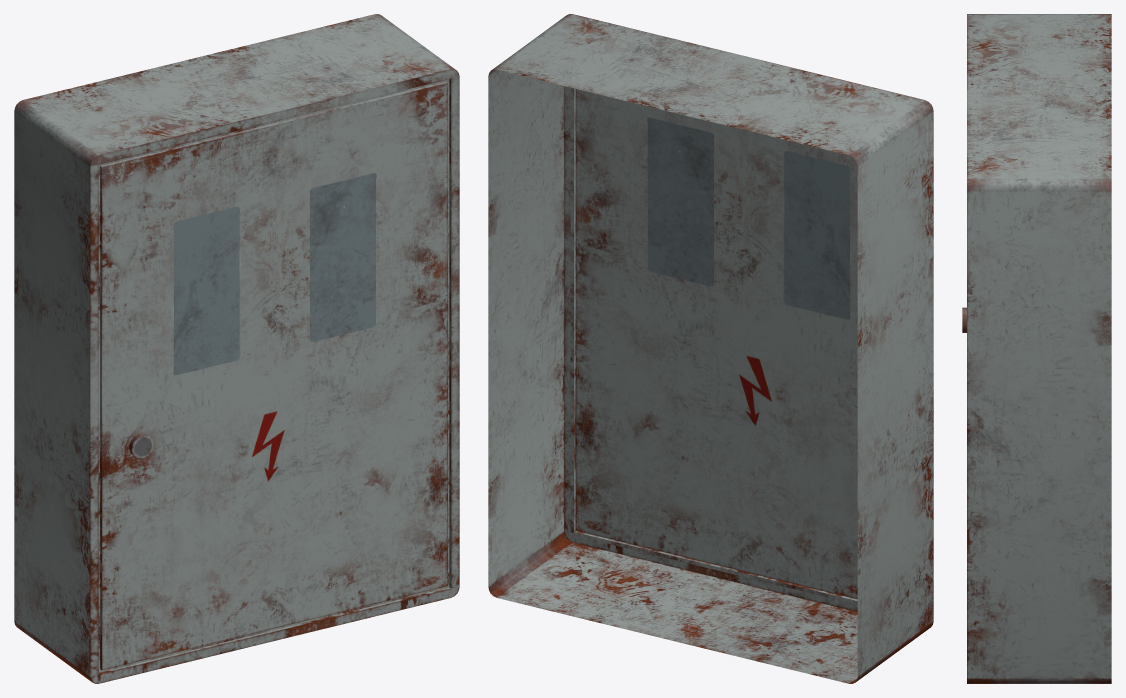
3 views of the same model, side by side, from view 1: azimuth 30°, elevation 25°; view 2: azimuth 150°, elevation 25°; view 3: azimuth 270°, elevation 25° (orthographic). The views are drawn at different scales.
Visible parts, largest first — view 1: el_ormar_el_ormar_0; view 2: el_ormar_el_ormar_0; view 3: el_ormar_el_ormar_0.
Boxes of the visible parts, bbox=[...] form: el_ormar_el_ormar_0: bbox=[14, 14, 459, 683]; el_ormar_el_ormar_0: bbox=[488, 14, 933, 683]; el_ormar_el_ormar_0: bbox=[962, 14, 1111, 683].
Size of the model in its own units: 45 by 61.49 by 16.54.
Materials: 1 (1 with a texture image).
